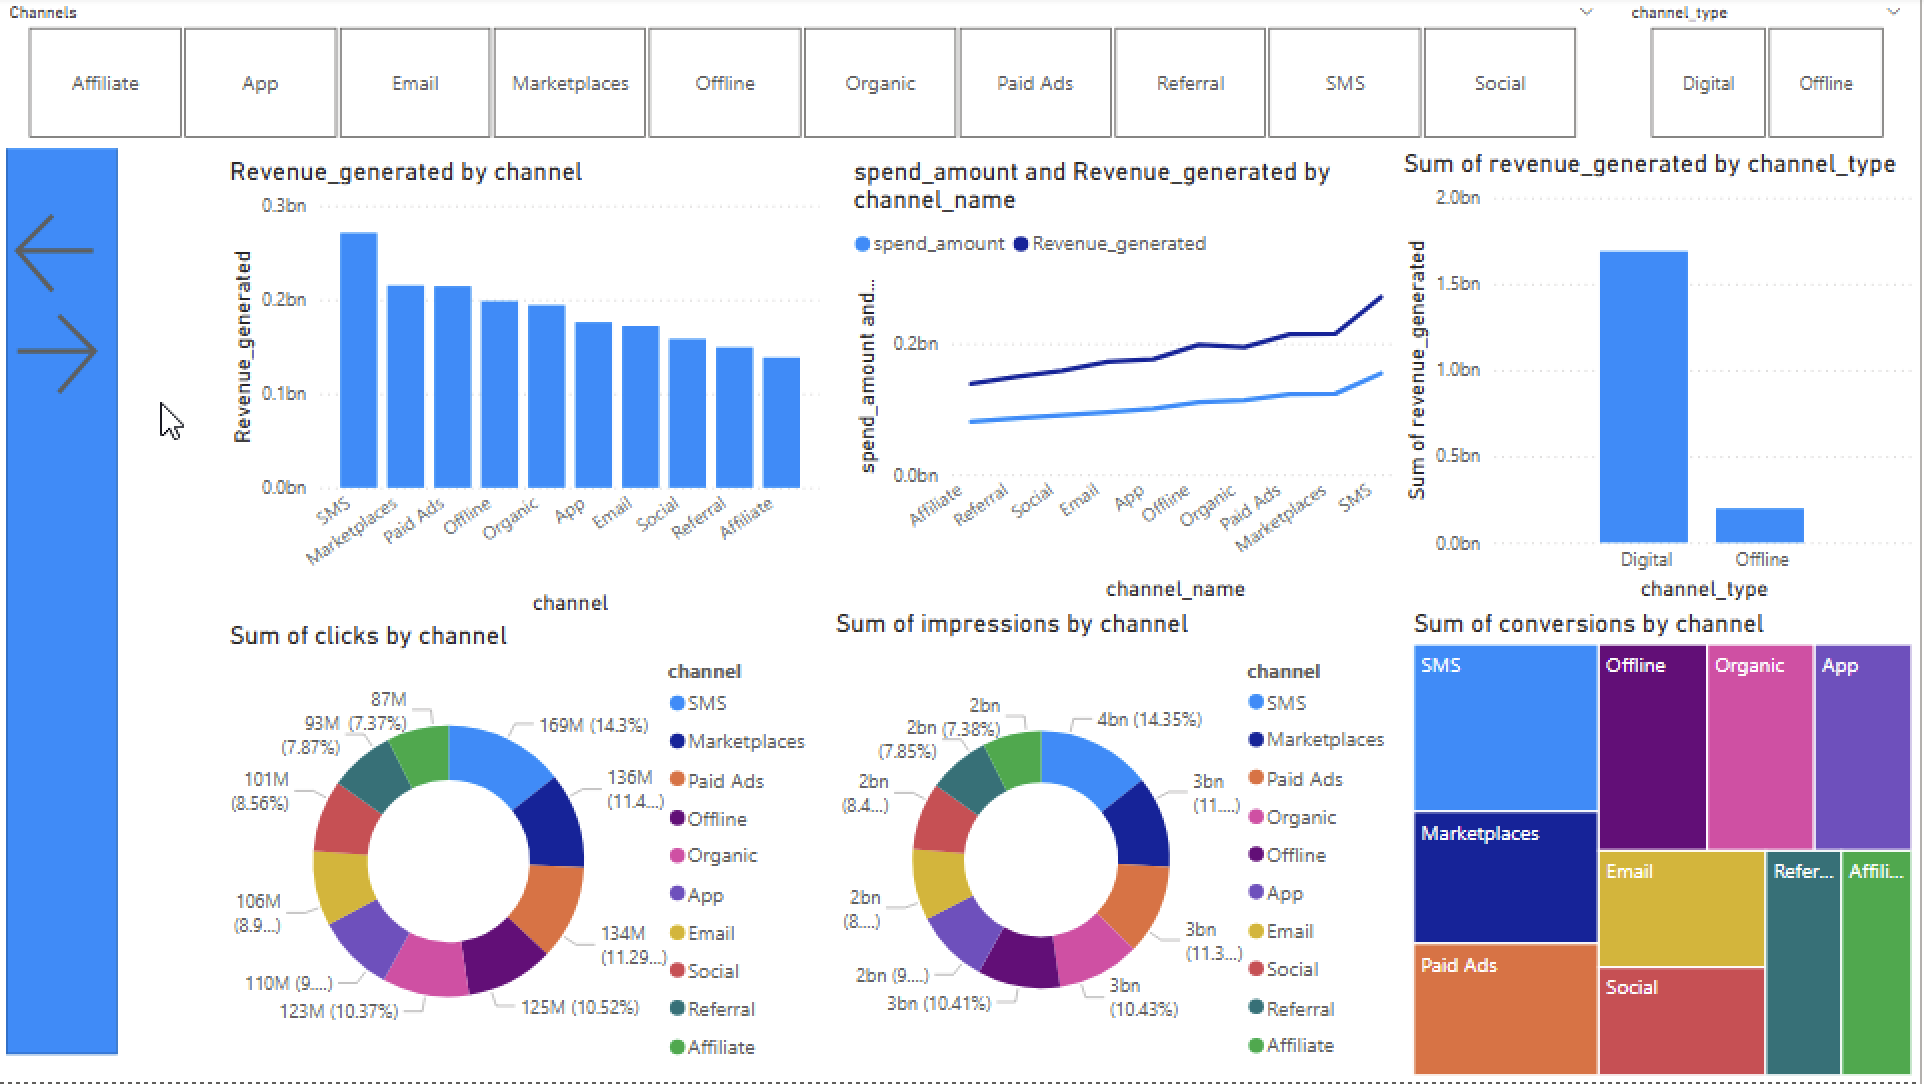

Layout of this report page (visuals, bound fields, positions):
{"tool":"powerbi","page":{"name":"Channel","canvas":[1280,720],"ordinal":2},"visuals":[{"type":"slicer","fields":{"Values":["DIM_CHANNEL.channel_type"]},"box":[1076,0,204,100.7],"z":0},{"type":"actionButton","box":[10.1,204.4,74.1,66.4],"z":0,"group":"g1"},{"type":"shape","box":[10,10,74.1,691.5],"z":1000},{"type":"actionButton","box":[10.2,137.6,73.8,65.4],"z":1000,"group":"g1"},{"type":"columnChart","fields":{"Category":["DIM_CHANNEL.channel_name"],"Y":["Sum(FACT_MARKETING_SPEND.revenue_generated)"]},"box":[153.8,105.7,401.3,309],"z":2000},{"type":"group","id":"g1","title":"Group 1","box":[10.1,137.6,73.8,132.5],"z":3000},{"type":"lineChart","fields":{"Category":["DIM_CHANNEL.channel_name"],"Y":["Sum(FACT_MARKETING_SPEND.spend_amount)","Sum(FACT_MARKETING_SPEND.revenue_generated)"]},"box":[567.1,105.7,371.8,299.6],"z":4000},{"type":"columnChart","fields":{"Category":["DIM_CHANNEL.channel_type"],"Y":["Sum(FACT_MARKETING_SPEND.revenue_generated)"]},"box":[932,100.7,348,304.7],"z":5000},{"type":"slicer","fields":{"Values":["DIM_CHANNEL.channel_name"]},"box":[0,0,1076,100.7],"z":6000},{"type":"treemap","fields":{"Group":["DIM_CHANNEL.channel_name"],"Values":["Sum(FACT_MARKETING_SPEND.conversions)"]},"box":[939.6,405.4,340.4,314.9],"z":7000},{"type":"donutChart","fields":{"Category":["DIM_CHANNEL.channel_name"],"Y":["Sum(FACT_MARKETING_SPEND.clicks)"]},"box":[154.3,414.3,401.6,300.9],"z":8000},{"type":"donutChart","fields":{"Category":["DIM_CHANNEL.channel_name"],"Y":["Sum(FACT_MARKETING_SPEND.impressions)"]},"box":[555.9,405.4,383.7,314.9],"z":9000}]}

Visuals, with their boxes on the page's 1280x720 design canvas (x1, y1, x2, y2). These are canvas units, not pixel positions in the 1924x1084 screenshot, which may show the page scaled, cropped or inside an application window:
slicer - DIM_CHANNEL.channel_type: <region>1076, 0, 1280, 101</region>
actionButton: <region>10, 204, 84, 271</region>
shape: <region>10, 10, 84, 702</region>
actionButton: <region>10, 138, 84, 203</region>
columnChart - DIM_CHANNEL.channel_name x Sum(FACT_MARKETING_SPEND.revenue_generated): <region>154, 106, 555, 415</region>
"Group 1" group: <region>10, 138, 84, 270</region>
lineChart - DIM_CHANNEL.channel_name x Sum(FACT_MARKETING_SPEND.spend_amount): <region>567, 106, 939, 405</region>
columnChart - DIM_CHANNEL.channel_type x Sum(FACT_MARKETING_SPEND.revenue_generated): <region>932, 101, 1280, 405</region>
slicer - DIM_CHANNEL.channel_name: <region>0, 0, 1076, 101</region>
treemap - DIM_CHANNEL.channel_name x Sum(FACT_MARKETING_SPEND.conversions): <region>940, 405, 1280, 720</region>
donutChart - DIM_CHANNEL.channel_name x Sum(FACT_MARKETING_SPEND.clicks): <region>154, 414, 556, 715</region>
donutChart - DIM_CHANNEL.channel_name x Sum(FACT_MARKETING_SPEND.impressions): <region>556, 405, 940, 720</region>
